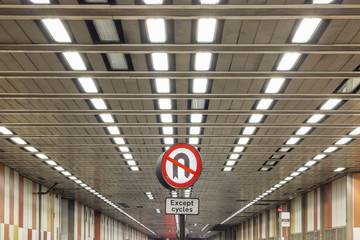No_u_turn: (160, 144, 202, 188)
